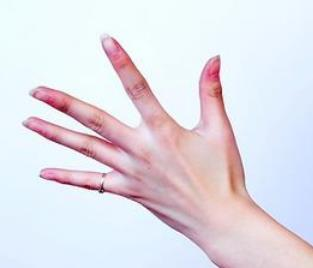down: (17, 28, 249, 222)
